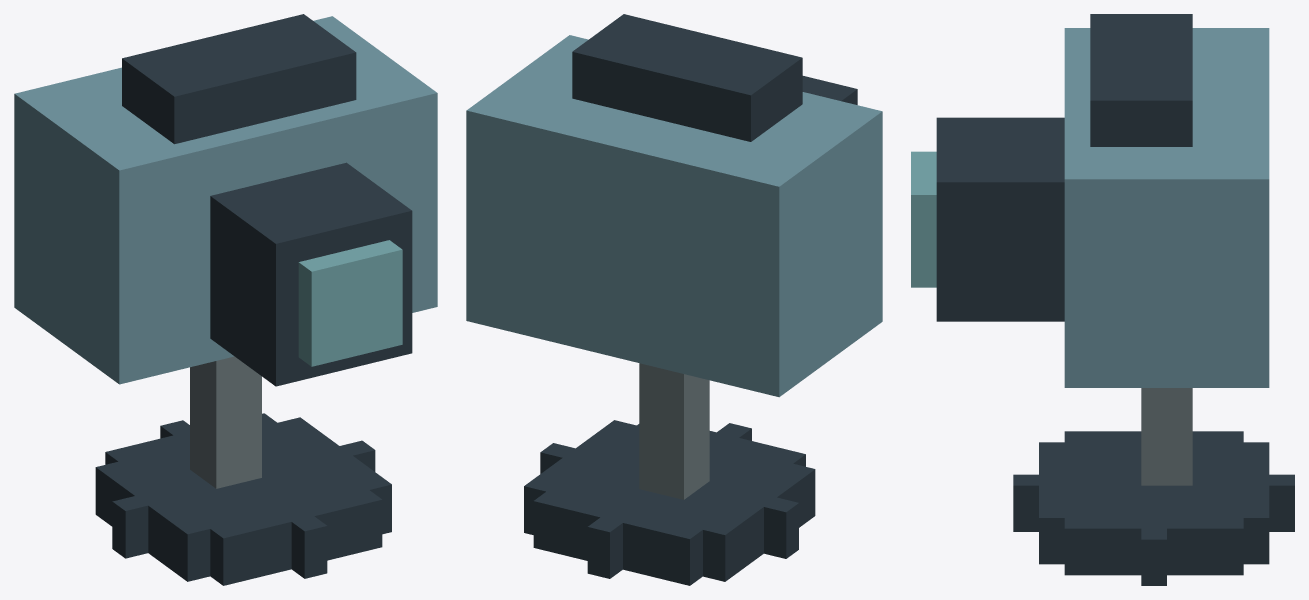
The model's file is travel-07.glb.
The picture shows the model from 3 angles, left to right: view 1: azimuth 30°, elevation 25°; view 2: azimuth 150°, elevation 25°; view 3: azimuth 270°, elevation 25°; orthographic projection. The views are drawn at different scales.
Parts seen in each view (by area): view 1: Camera; view 2: Camera; view 3: Camera.
Part boxes in pixels (x1=…): Camera: x1=14, y1=14, x2=437, y2=585; Camera: x1=466, y1=14, x2=882, y2=585; Camera: x1=911, y1=14, x2=1294, y2=585.
Size of the model in its own units: 1.12 by 1.6 by 1.2.
